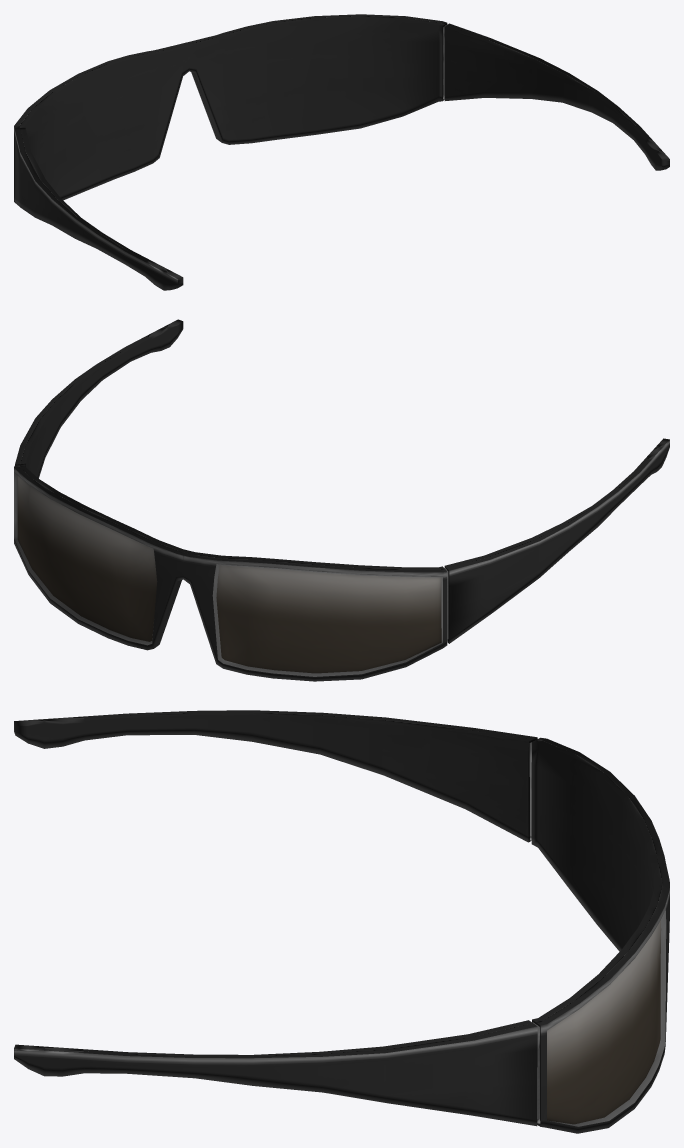
Rendered from sleek_sunglasses.glb.
The picture shows the model from 3 angles, top to bottom: view 1: azimuth 30°, elevation 25°; view 2: azimuth 150°, elevation 25°; view 3: azimuth 270°, elevation 25°; orthographic projection. The views are drawn at different scales.
Parts seen in each view (by area): view 1: Object_2; view 2: Object_2; view 3: Object_2.
Boxes of the visible parts, x1,y1,x2,y2 form: Object_2: [14, 14, 669, 290]; Object_2: [14, 319, 669, 681]; Object_2: [14, 710, 669, 1133].
Bounding box in the file's own units: 1.21 × 0.2565 × 0.9628.
1 material, 1 textured.
